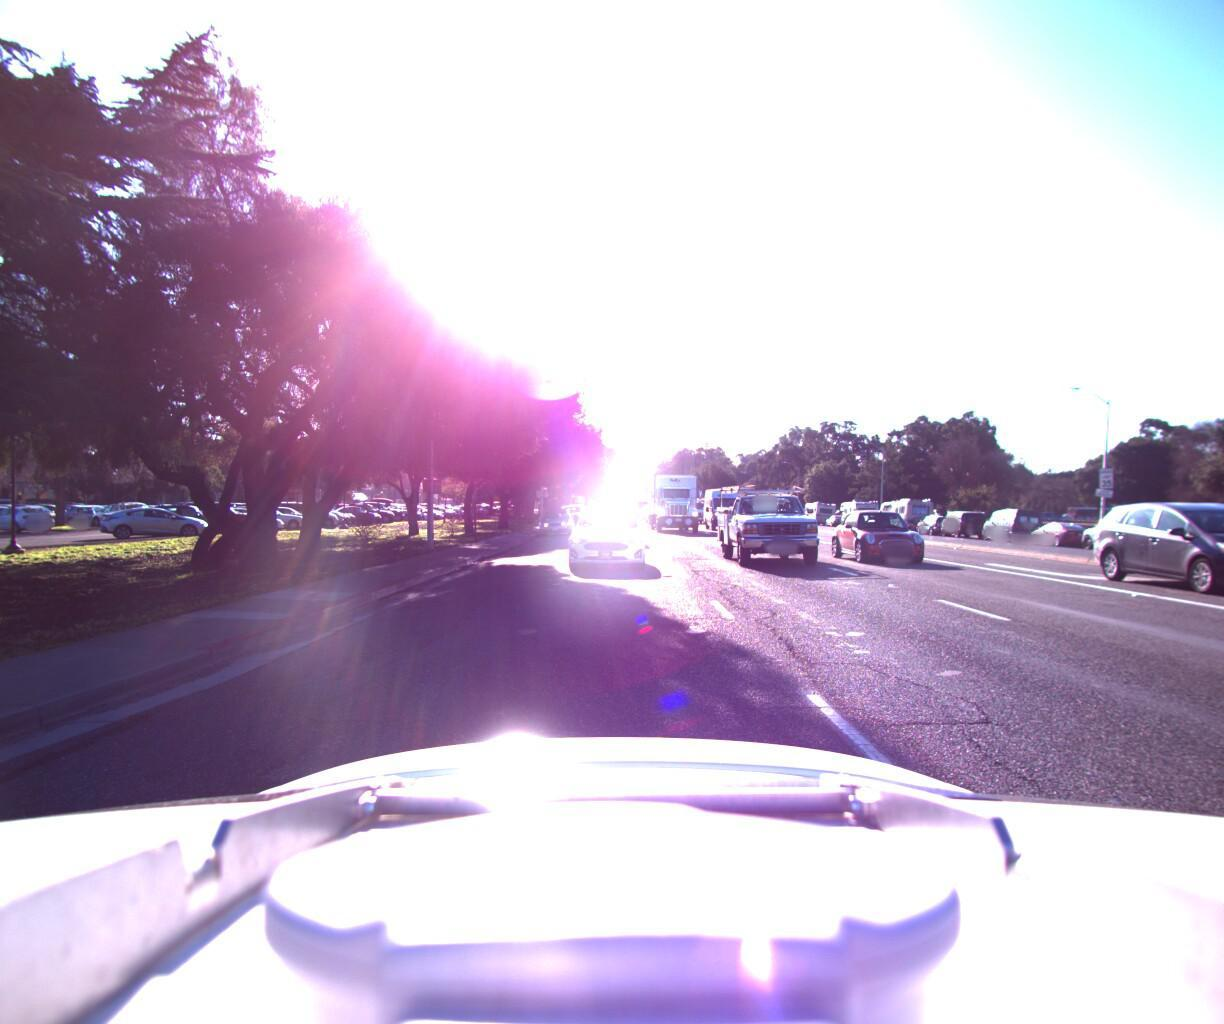car: (1113, 491, 1224, 606), (716, 478, 830, 571), (837, 503, 941, 564), (565, 501, 647, 571), (1077, 511, 1168, 548), (979, 505, 1045, 539), (590, 502, 637, 545), (1026, 516, 1095, 544), (699, 485, 740, 529), (936, 508, 987, 536), (537, 505, 575, 533), (914, 511, 958, 532), (1223, 517, 1224, 565)
other_vehicle: (872, 494, 943, 530)
truck: (642, 468, 703, 532)
